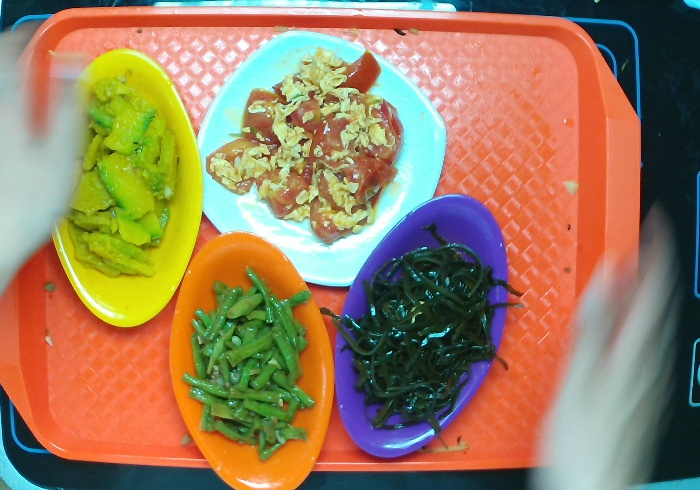RJxy-Fen_Hong_Tuo_Yuan: (335, 194, 512, 470)
RJxy-Huang_Se_Tuo_Yuan: (50, 42, 208, 328)
RJxy-Ju_Huang_Tuo_Yuan: (170, 225, 335, 490)
RJxy-Si_Fang_Die: (191, 30, 443, 286)
